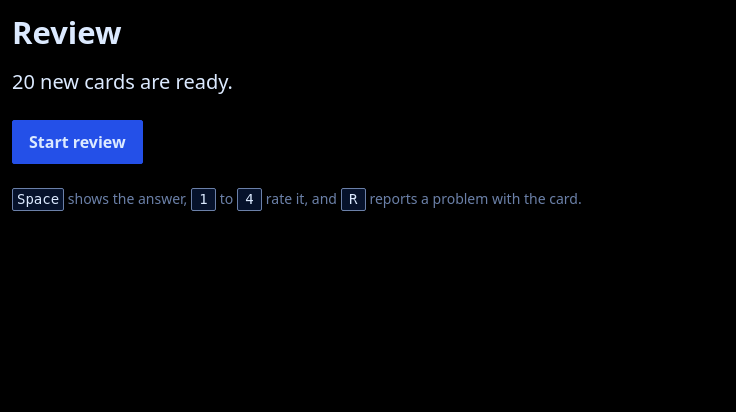
Test: Review card flip › brings a card rated Again back once its 10 minutes are up, ahead of the rest of a long queue
Later steps or results of the test are not shown.
Click the button "Start review": (77, 142) [12,120,143,164]
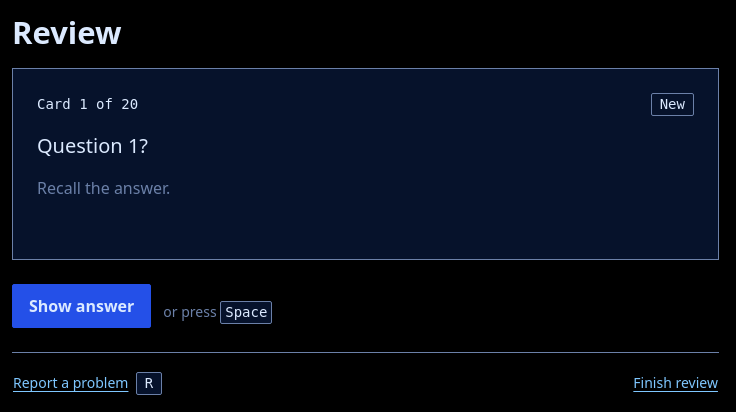
Expected: the text "Question 1?" is shown, [37,132,148,159]
